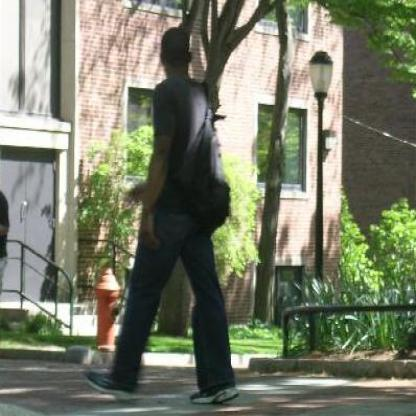person: (107, 29, 241, 403)
